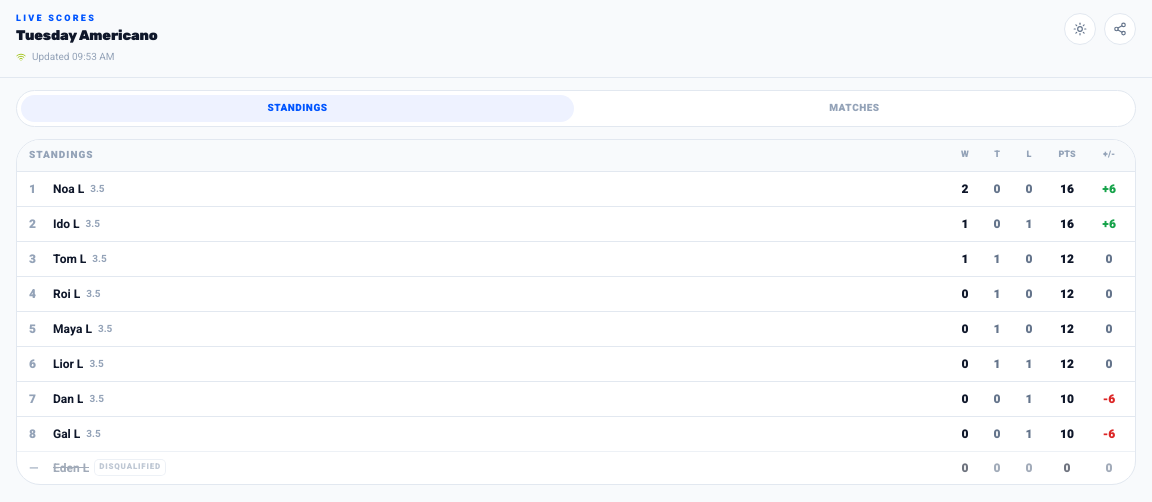
Test: the live page for an Americano › steps back to round 2: the walkover, the resting line, never the cancelled game
Click the button "Matches" at (854, 108), box top-left (578, 94), bottom-right (1131, 122)
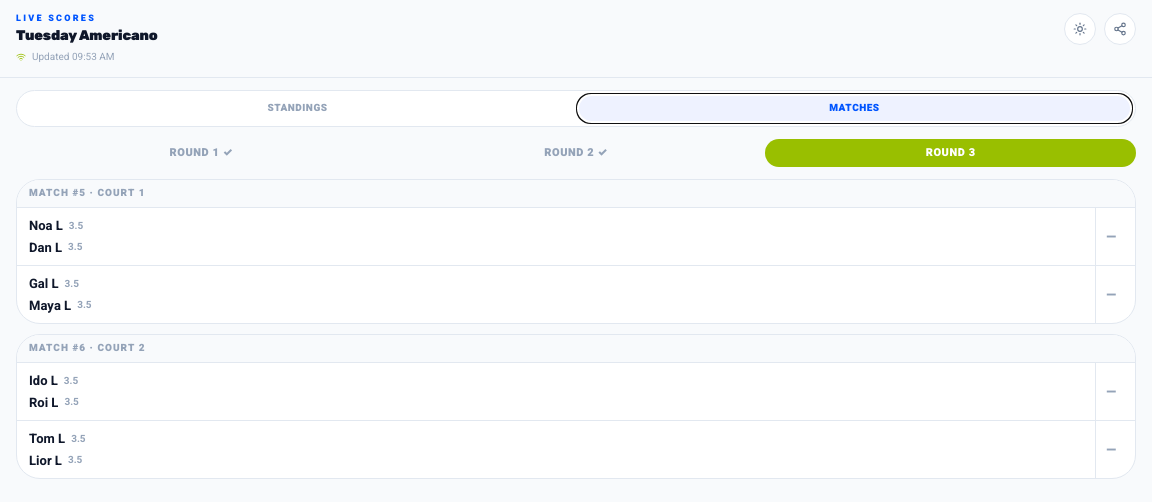
Click the button "Round 2 ✓" at (576, 153), box top-left (391, 138), bottom-right (761, 167)
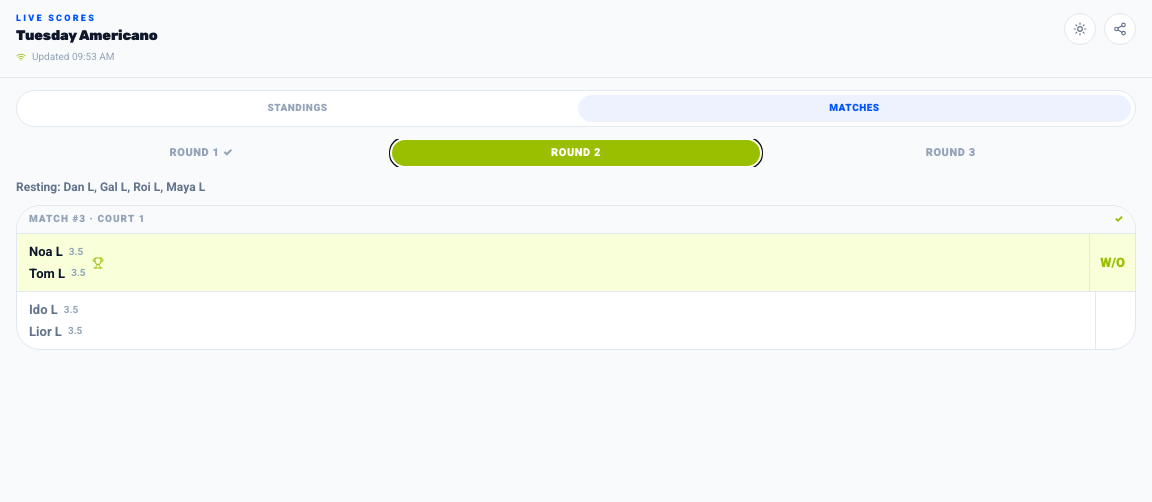
Expected: the text "Eden L" is not shown
Now the text with test id "round-note" reads "Resting: Dan L, Gal L, Roi L, Maya L", box top-left (16, 178), bottom-right (205, 196)
Now the text "W/O" is shown once, box top-left (1100, 253), bottom-right (1125, 272)
